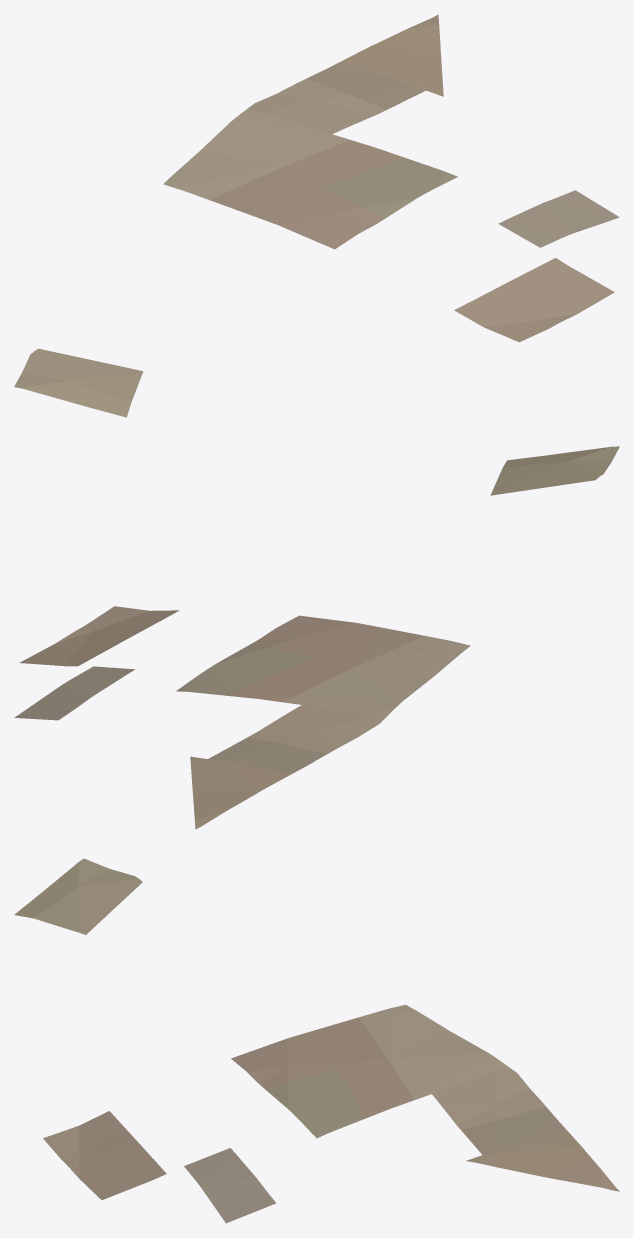
The model's file is farm_-24_-27_soil.glb.
The picture shows the model from 3 angles, top to bottom: view 1: azimuth 30°, elevation 25°; view 2: azimuth 210°, elevation 25°; view 3: azimuth 270°, elevation 25°; orthographic projection. The views are drawn at different scales.
Visible parts, largest first — view 1: geometry_0; view 2: geometry_0; view 3: geometry_0.
Boxes of the visible parts, x1,y1,x2,y2 form: geometry_0: (14,14,619,417); geometry_0: (14,446,619,829); geometry_0: (14,858,619,1223).
Size of the model in its own units: 595 by 54.09 by 464.
